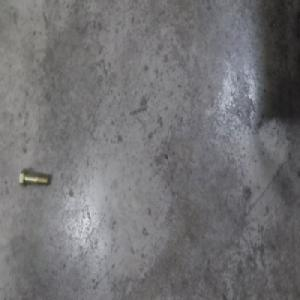Bolt: (19, 175, 49, 197)
